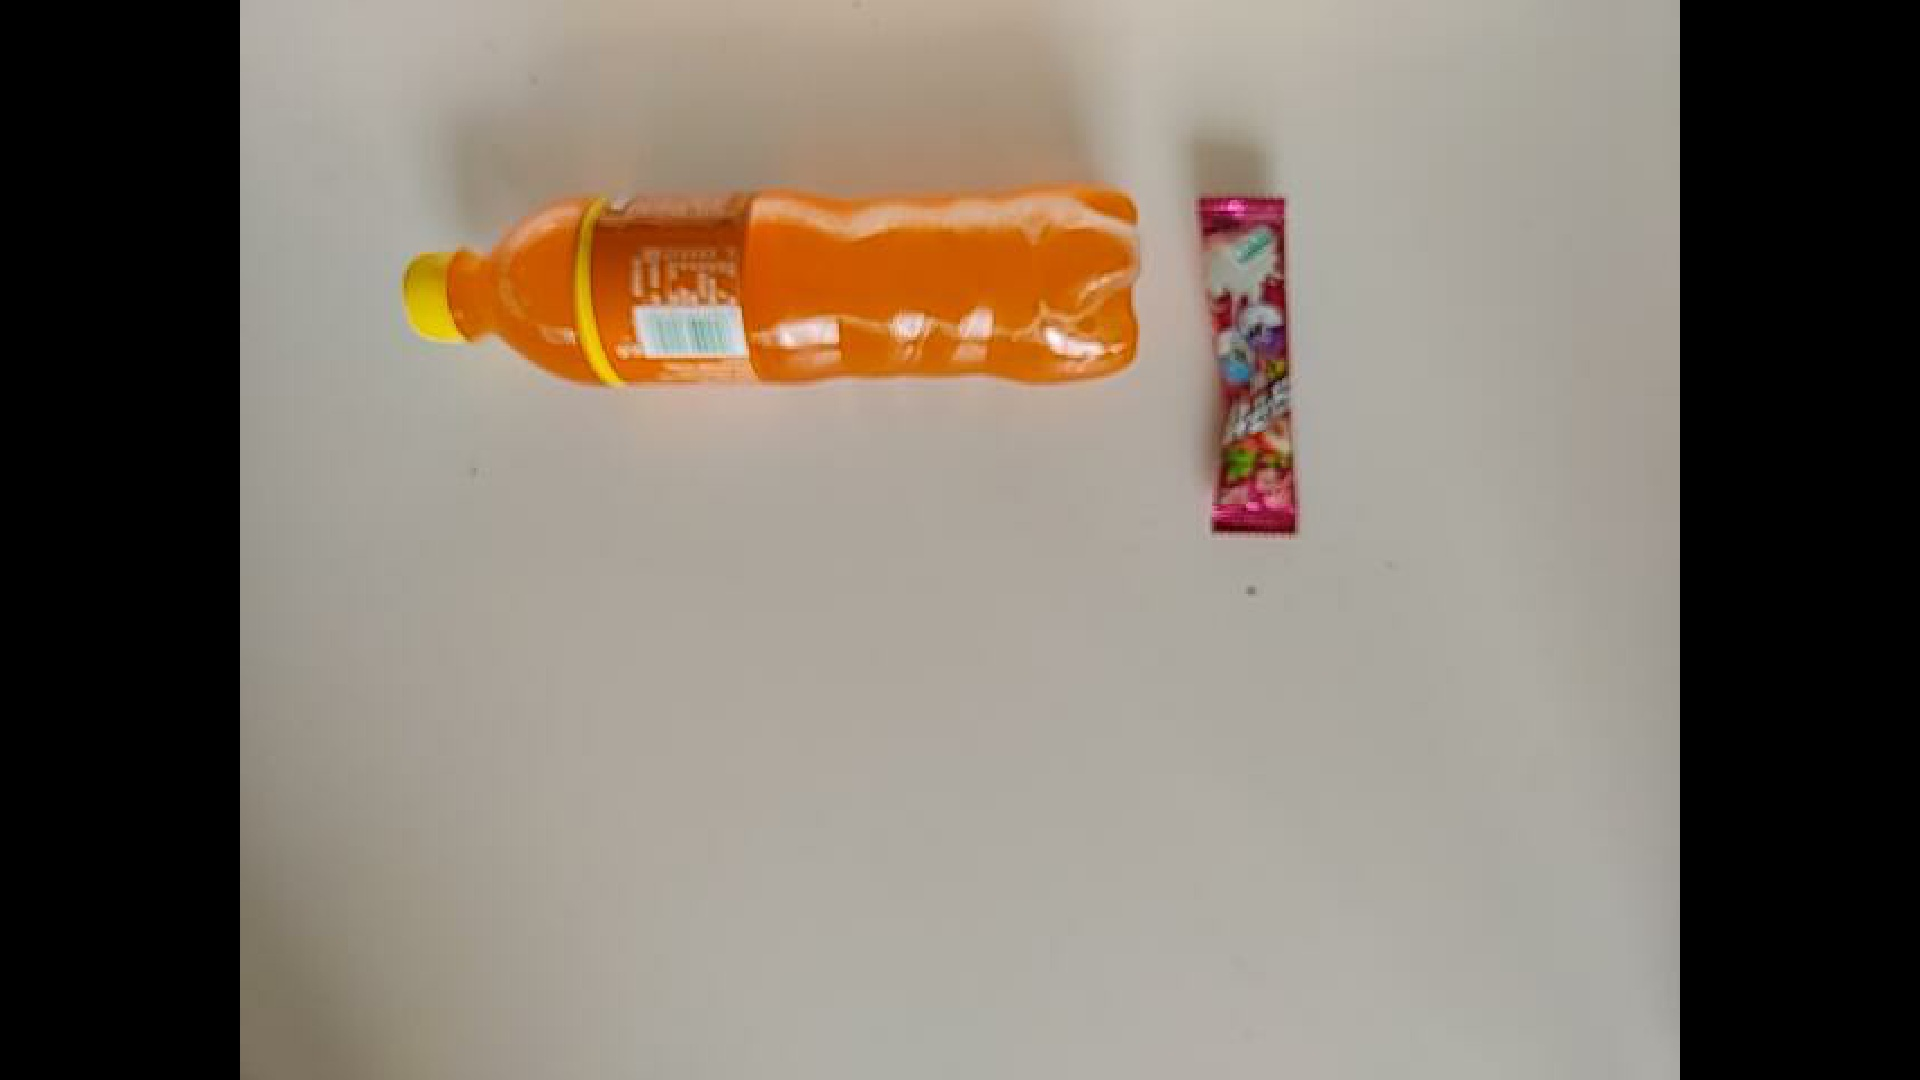fenta: (401, 178, 1143, 390)
sugar: (1196, 195, 1303, 539)
